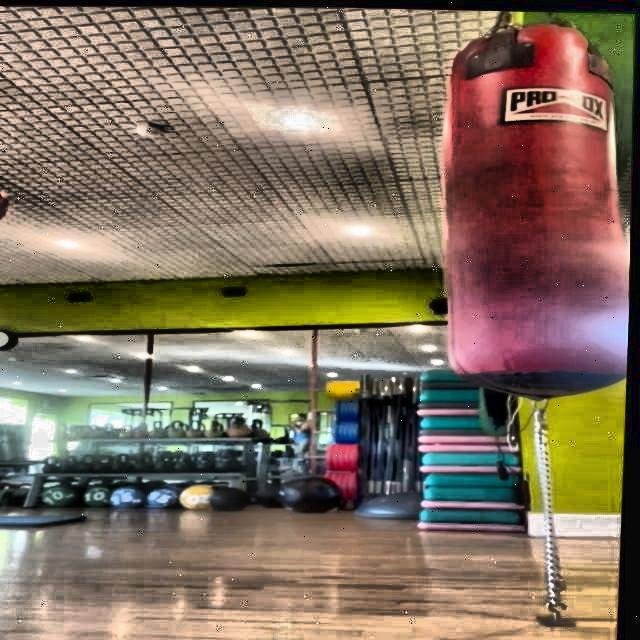boxing-bag: (442, 8, 640, 400)
